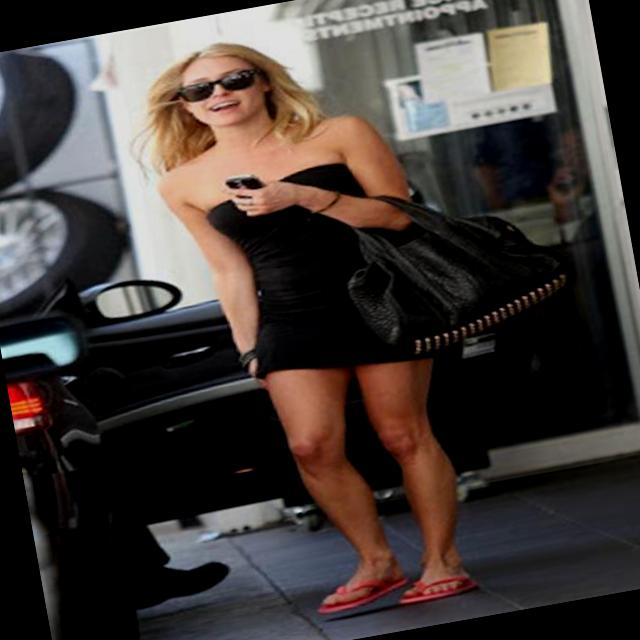dress: (200, 152, 438, 393)
